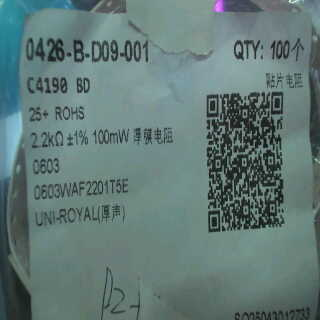2.2kR: (30, 129, 65, 151)
